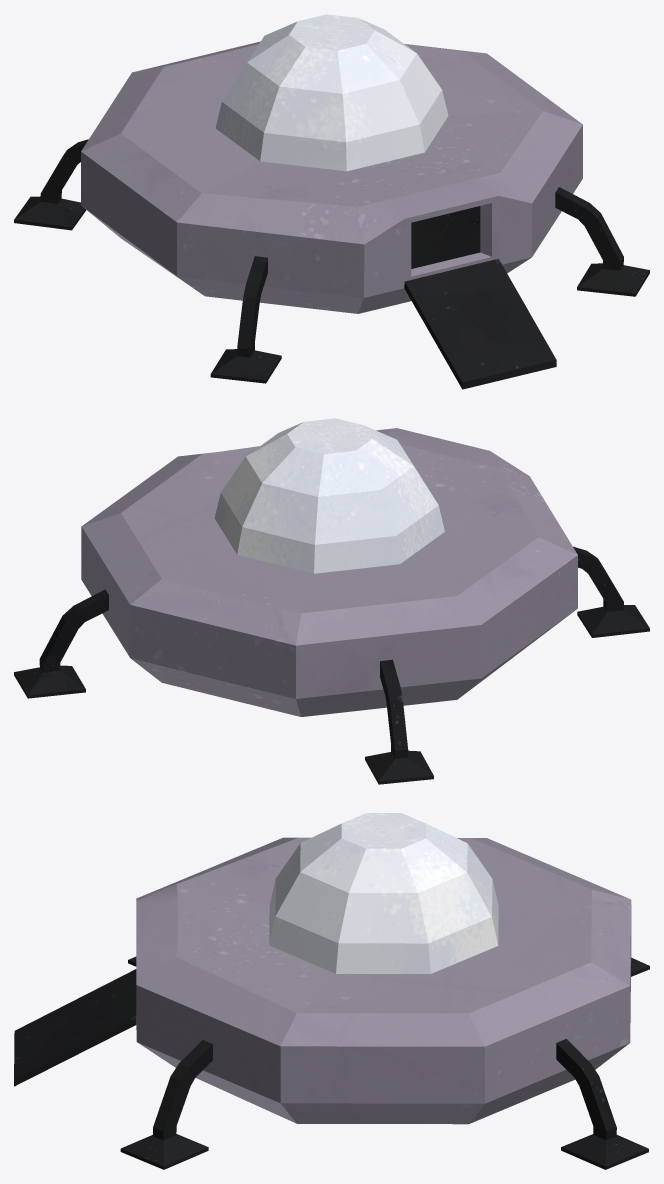
File: SM_bigUFO.fbx
3 renders of one model, top to bottom at view 1: azimuth 30°, elevation 25°; view 2: azimuth 150°, elevation 25°; view 3: azimuth 270°, elevation 25°, orthographic. The views are drawn at different scales.
Visible parts, largest first — view 1: bigUFO; view 2: bigUFO; view 3: bigUFO.
Part boxes in pixels (left/top/right/bottom): bigUFO: left=14, top=14, right=649, bottom=389; bigUFO: left=14, top=418, right=649, bottom=784; bigUFO: left=14, top=813, right=649, bottom=1169.
Size of the model in its own units: 129 by 61.49 by 154.
